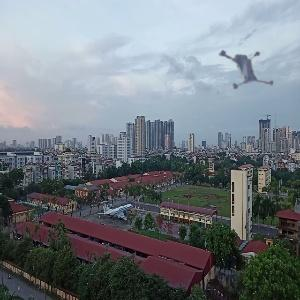drone: (203, 34, 272, 103)
